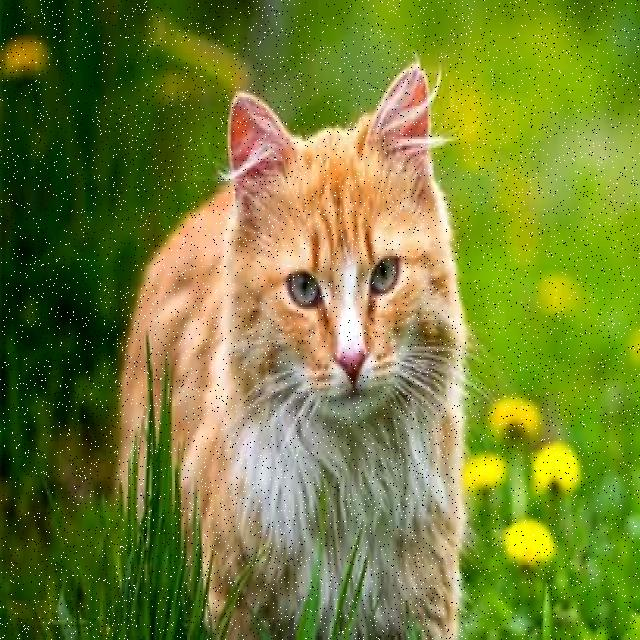cat: (120, 64, 466, 638)
